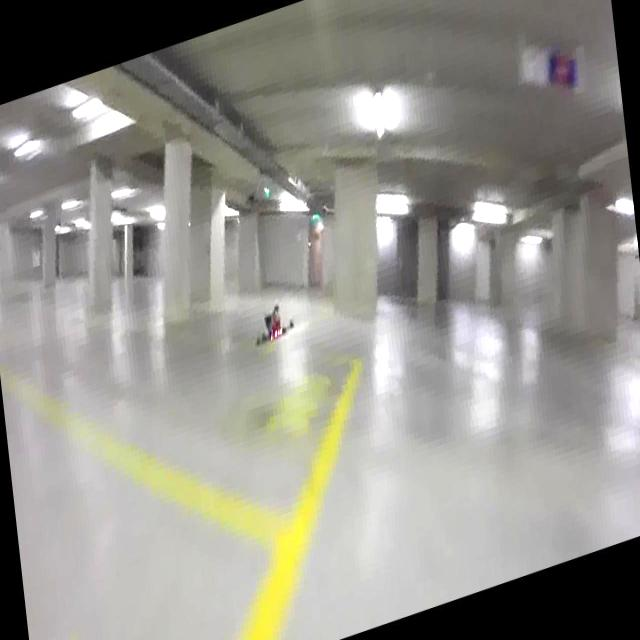drone: (244, 288, 298, 361)
